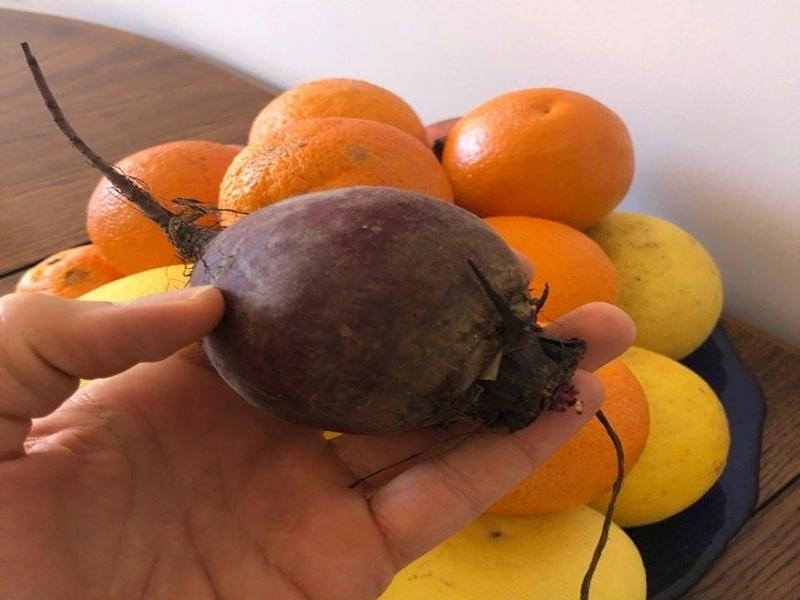Beet: (21, 41, 576, 434)
